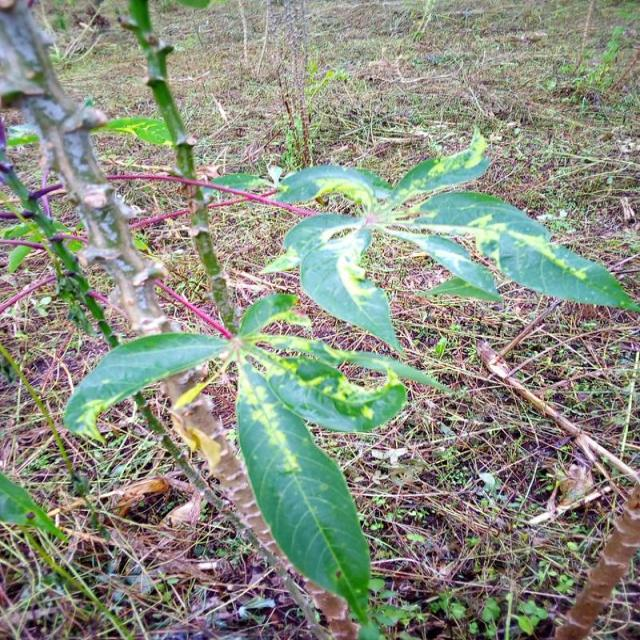cassava leaf: (234, 352, 373, 629), (61, 329, 231, 444)
